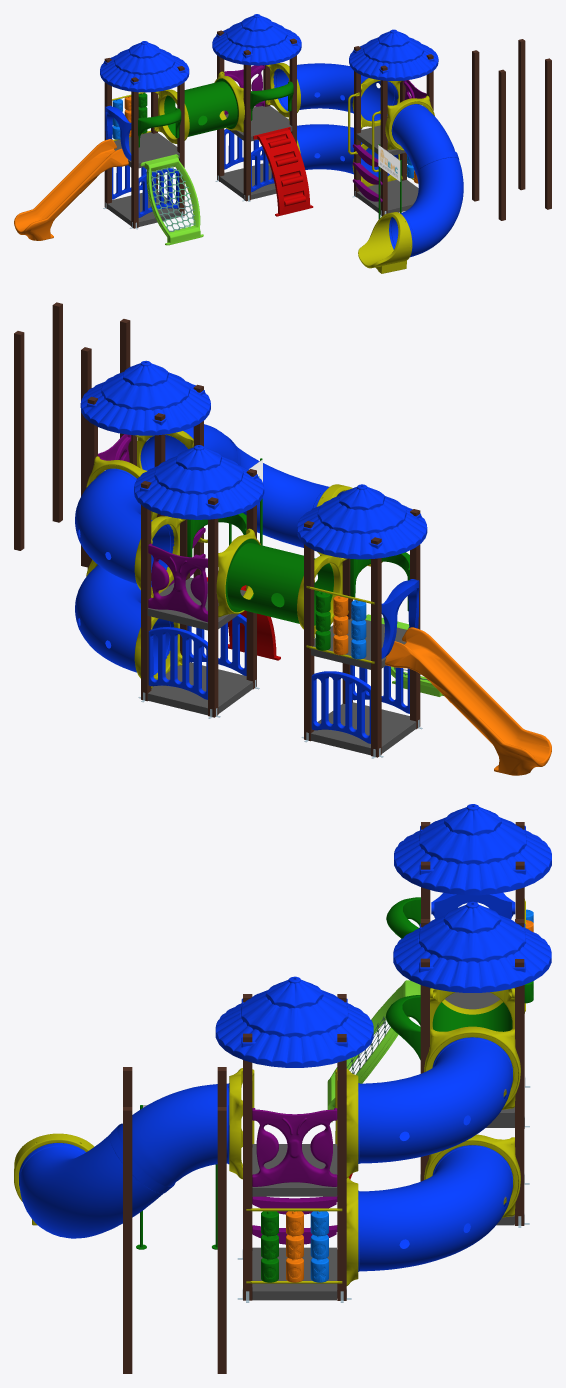
The picture shows the model from 3 angles, top to bottom: view 1: azimuth 30°, elevation 25°; view 2: azimuth 150°, elevation 25°; view 3: azimuth 270°, elevation 25°; orthographic projection. The views are drawn at different scales.
Visible parts, largest first — view 1: TUNEL CURVO M3, DUTO TOBOGA M1, TUNEL RETO 1M M3, ESCORREGADOR M6, TOLDO M2.001, TOLDO M2.002, TOLDO M2, MEIO DUTO TOBOGA M5 COM BORDA, ESCALADA M2, TUNEL CURVO M3.001, TEIA DE ARANHA M1, PONTEIRA M1 (+28 smaller); view 2: TUNEL CURVO M3, TUNEL RETO 1M M3, ESCORREGADOR M6, TOLDO M2.001, TOLDO M2.002, TOLDO M2, TUNEL CURVO M3.001, DUTO TOBOGA M1, JOGO DA VELHA, FECHAMENTO M2.001, FECHAMENTO M1.004, FECHAMENTO M1.003 (+24 smaller); view 3: TUNEL CURVO M3, TUNEL CURVO M3.001, TOLDO M2.001, TOLDO M2.002, TOLDO M2, DUTO TOBOGA M1, MEIO DUTO TOBOGA M5 COM BORDA, FECHAMENTO M2, JOGO DA VELHA.001, PLATAFORMA M1.005, COLUNA MAD PLAST 9 X 9CM.014, COLUNA MAD PLAST 9 X 9CM.016 (+13 smaller).
Part boxes in pixels (bbox=[...]): TUNEL CURVO M3: bbox=[265, 63, 401, 129]; DUTO TOBOGA M1: bbox=[389, 151, 463, 257]; TUNEL RETO 1M M3: bbox=[154, 71, 244, 143]; ESCORREGADOR M6: bbox=[14, 139, 128, 240]; TOLDO M2.001: bbox=[100, 41, 189, 92]; TOLDO M2.002: bbox=[212, 14, 301, 65]; TOLDO M2: bbox=[349, 29, 438, 80]; MEIO DUTO TOBOGA M5 COM BORDA: bbox=[385, 95, 454, 167]; ESCALADA M2: bbox=[253, 127, 313, 216]; TUNEL CURVO M3.001: bbox=[268, 124, 402, 186]; TEIA DE ARANHA M1: bbox=[140, 154, 203, 245]; PONTEIRA M1: bbox=[358, 212, 412, 273]; TUNEL CURVO M3: bbox=[75, 456, 185, 597]; TUNEL RETO 1M M3: bbox=[216, 528, 348, 638]; ESCORREGADOR M6: bbox=[385, 627, 551, 775]; TOLDO M2.001: bbox=[297, 484, 427, 559]; TOLDO M2.002: bbox=[134, 445, 264, 519]; TOLDO M2: bbox=[80, 360, 210, 435]; TUNEL CURVO M3.001: bbox=[75, 559, 182, 688]; DUTO TOBOGA M1: bbox=[227, 436, 344, 547]; JOGO DA VELHA: bbox=[306, 586, 374, 663]; FECHAMENTO M2.001: bbox=[148, 543, 207, 622]; FECHAMENTO M1.004: bbox=[148, 627, 207, 699]; FECHAMENTO M1.003: bbox=[311, 671, 370, 743]; TUNEL CURVO M3: bbox=[346, 1026, 520, 1178]; TUNEL CURVO M3.001: bbox=[346, 1134, 520, 1285]; TOLDO M2.001: bbox=[394, 804, 551, 895]; TOLDO M2.002: bbox=[393, 901, 551, 992]; TOLDO M2: bbox=[215, 976, 373, 1067]; DUTO TOBOGA M1: bbox=[19, 1123, 175, 1238]; MEIO DUTO TOBOGA M5 COM BORDA: bbox=[117, 1068, 242, 1186]; FECHAMENTO M2: bbox=[252, 1108, 337, 1186]; JOGO DA VELHA.001: bbox=[246, 1208, 342, 1283]; PLATAFORMA M1.005: bbox=[252, 1247, 337, 1300]; COLUNA MAD PLAST 9 X 9CM.014: bbox=[123, 1107, 132, 1373]; COLUNA MAD PLAST 9 X 9CM.016: bbox=[217, 1107, 226, 1373].
Size of the model in its own units: 8.57 by 3.2 by 5.19.
21 materials, 2 textured.
